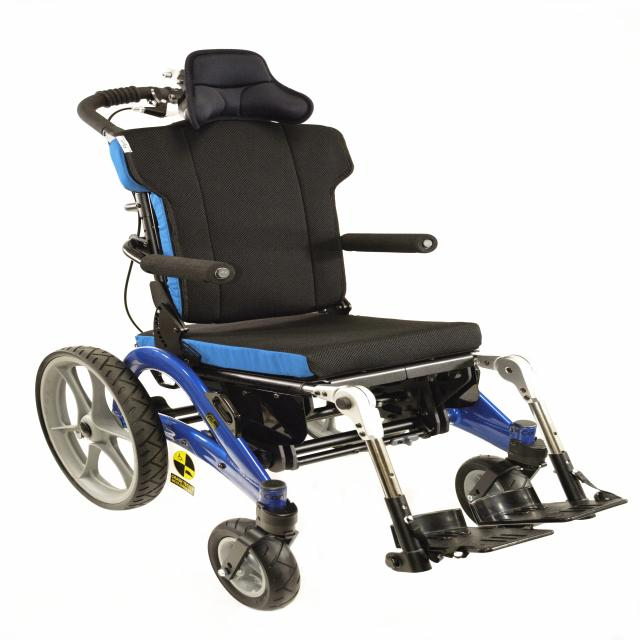wheelchair: (28, 38, 630, 611)
